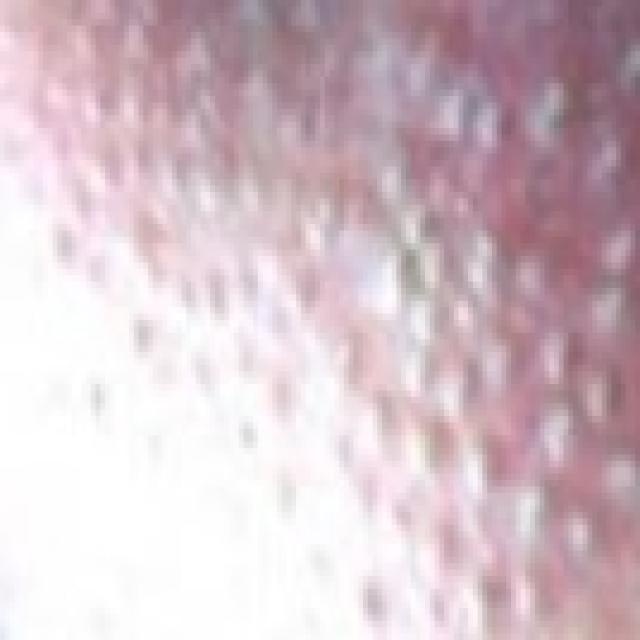whitehead: (5, 0, 639, 639)
